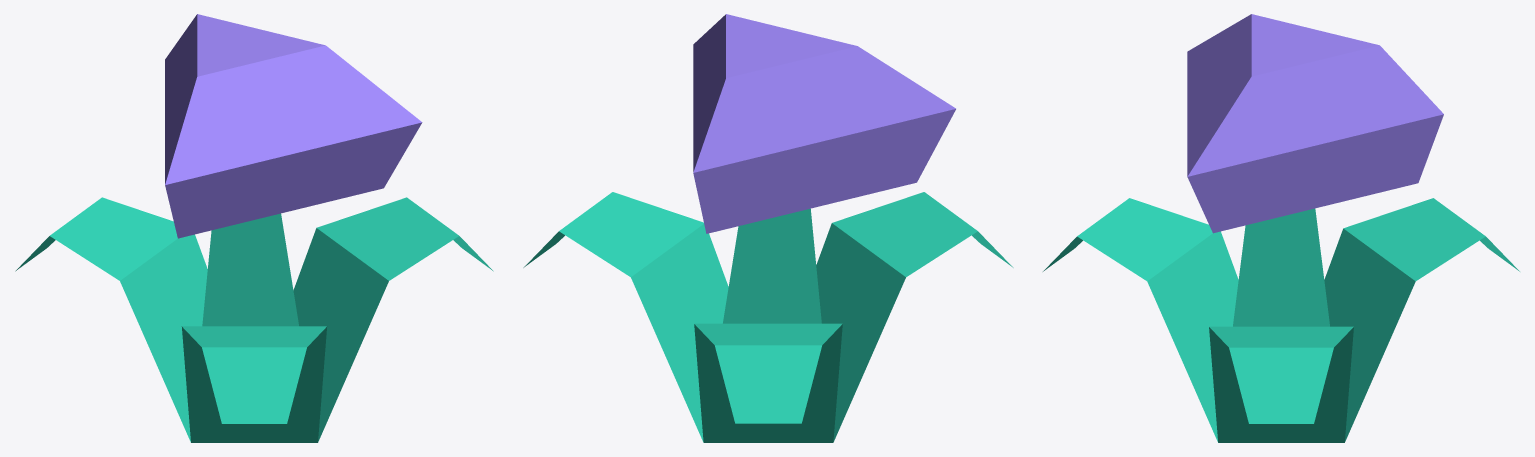
File: flower_purpleB.obj
3 renders of one model, left to right at view 1: azimuth 30°, elevation 25°; view 2: azimuth 150°, elevation 25°; view 3: azimuth 270°, elevation 25°, orthographic. The views are drawn at different scales.
Parts seen in each view (by area): view 1: flower_purpleB; view 2: flower_purpleB; view 3: flower_purpleB.
Part boxes in pixels (left/top/right/bottom): flower_purpleB: left=15, top=14, right=493, bottom=442; flower_purpleB: left=523, top=14, right=1013, bottom=442; flower_purpleB: left=1043, top=14, right=1519, bottom=442.
Bounding box in the file's own units: 0.2073 × 0.2085 × 0.2392.
